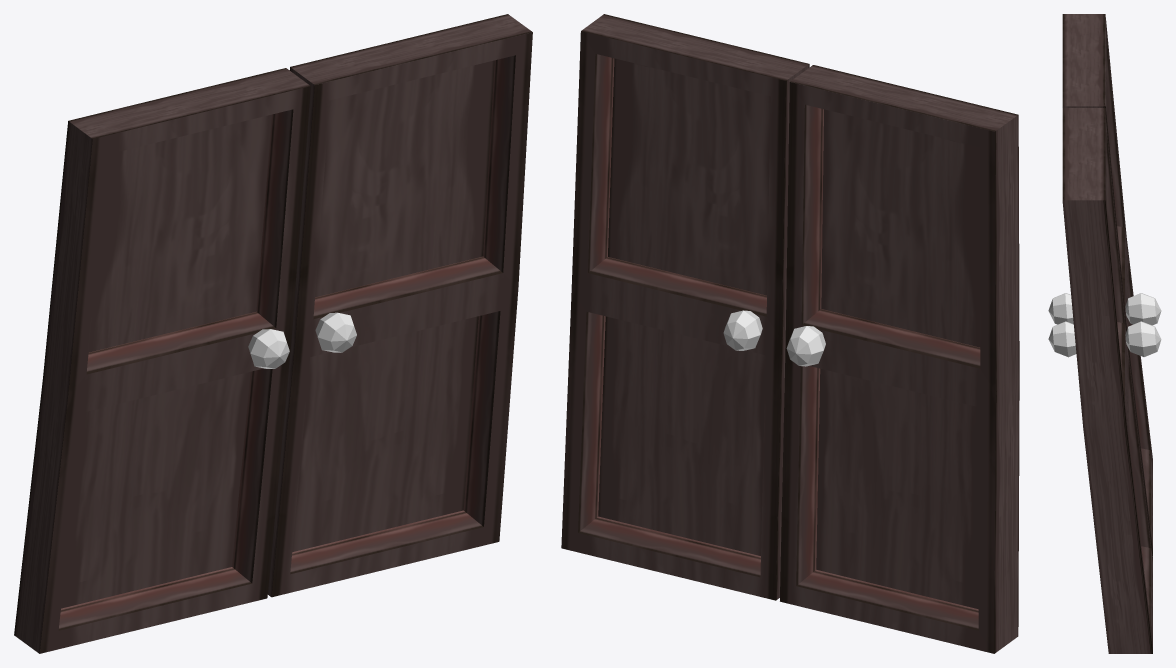
Rendered from Door.fbx.
3 views of the same model, side by side, from view 1: azimuth 30°, elevation 25°; view 2: azimuth 150°, elevation 25°; view 3: azimuth 270°, elevation 25° (orthographic). The views are drawn at different scales.
Visible parts, largest first — view 1: Cube.009, Cube.008; view 2: Cube.009, Cube.008; view 3: Cube.008, Cube.009.
Part boxes in pixels (bbox=[...]): Cube.009: bbox=[14, 68, 310, 653]; Cube.008: bbox=[267, 14, 532, 597]; Cube.009: bbox=[780, 65, 1019, 653]; Cube.008: bbox=[561, 14, 809, 600]; Cube.008: bbox=[1048, 108, 1161, 653]; Cube.009: bbox=[1048, 14, 1161, 555].
Bounding box in the file's own units: 353 × 381 × 85.55.
